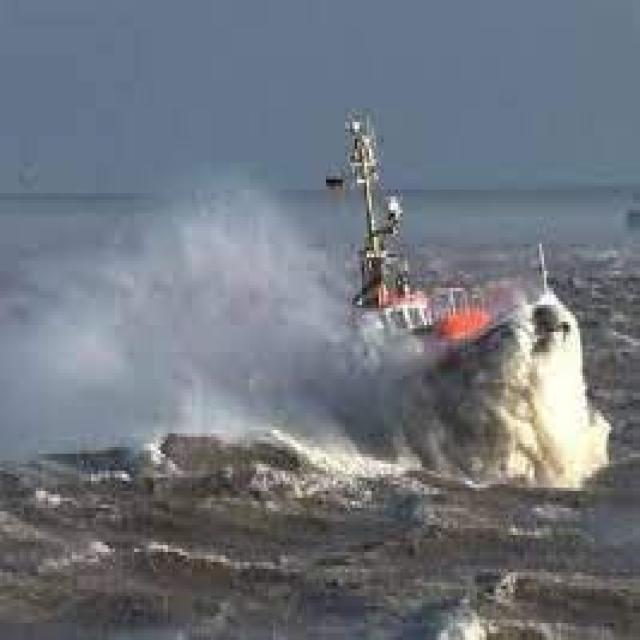houseboat: (314, 108, 563, 400)
